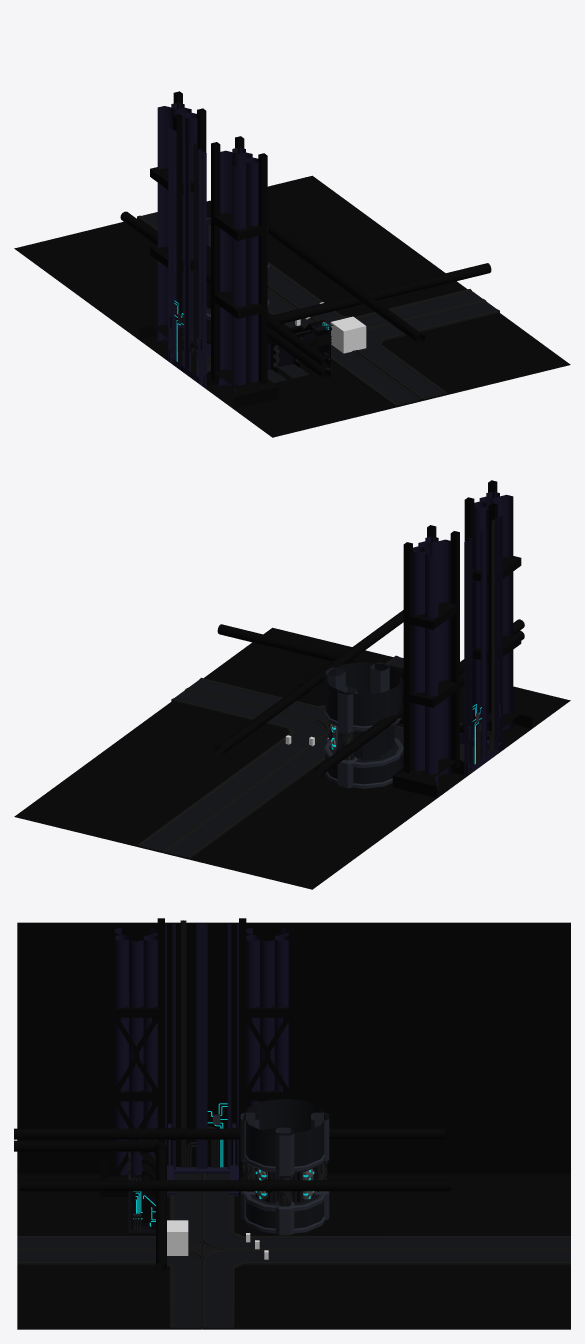
File: M-BBF2.fbx
3 renders of one model, top to bottom at view 1: azimuth 30°, elevation 25°; view 2: azimuth 150°, elevation 25°; view 3: azimuth 270°, elevation 25°, orthographic. The views are drawn at different scales.
Visible parts, largest first — view 1: 10月頭に完成, ベジエカーブ.005, 立方体.002, 立方体.001, ベジエカーブ.015, 立方体.021, ベジエカーブ.006, 立方体.025, 立方体.012; view 2: 10月頭に完成, 立方体.001, ベジエカーブ.005, 立方体.002, 立方体.021, ベジエカーブ.015, ベジエカーブ.004, 立方体.004, ベジエカーブ.006, ベジエカーブ.013, 円; view 3: 10月頭に完成, 立方体.001, ベジエカーブ.005, ベジエカーブ.015, 立方体.002, 立方体.021, ベジエカーブ.004, ベジエカーブ.006, 立方体.009, ベジエカーブ.013, 立方体.012, 立方体.025 (+3 smaller).
Part boxes in pixels (x1,y1,x2,y2): 10月頭に完成: [14, 175, 570, 437]; ベジエカーブ.005: [157, 103, 258, 399]; 立方体.002: [139, 91, 278, 409]; 立方体.001: [137, 212, 499, 407]; ベジエカーブ.015: [120, 211, 491, 379]; 立方体.021: [168, 126, 206, 387]; ベジエカーブ.006: [178, 143, 196, 375]; 立方体.025: [330, 316, 366, 353]; 立方体.012: [169, 316, 210, 383]; 10月頭に完成: [14, 627, 570, 889]; 立方体.001: [137, 655, 499, 859]; ベジエカーブ.005: [412, 491, 513, 788]; 立方体.002: [392, 480, 532, 797]; 立方体.021: [464, 515, 502, 776]; ベジエカーブ.015: [215, 610, 524, 776]; ベジエカーブ.004: [325, 662, 402, 784]; 立方体.004: [337, 686, 357, 787]; ベジエカーブ.006: [476, 519, 494, 762]; ベジエカーブ.013: [323, 709, 403, 788]; 円: [336, 693, 394, 760]; 10月頭に完成: [17, 922, 570, 1329]; 立方体.001: [17, 1173, 570, 1329]; ベジエカーブ.005: [114, 927, 289, 1175]; ベジエカーブ.015: [14, 1128, 450, 1271]; 立方体.002: [100, 918, 295, 1196]; 立方体.021: [165, 923, 238, 1169]; ベジエカーブ.004: [243, 1098, 326, 1228]; ベジエカーブ.006: [180, 920, 218, 1167]; 立方体.009: [275, 1127, 294, 1235]; ベジエカーブ.013: [244, 1154, 325, 1233]; 立方体.012: [167, 1123, 238, 1196]; 立方体.025: [167, 1220, 188, 1255].
Size of the model in its own units: 4000 by 3100 by 6038.
